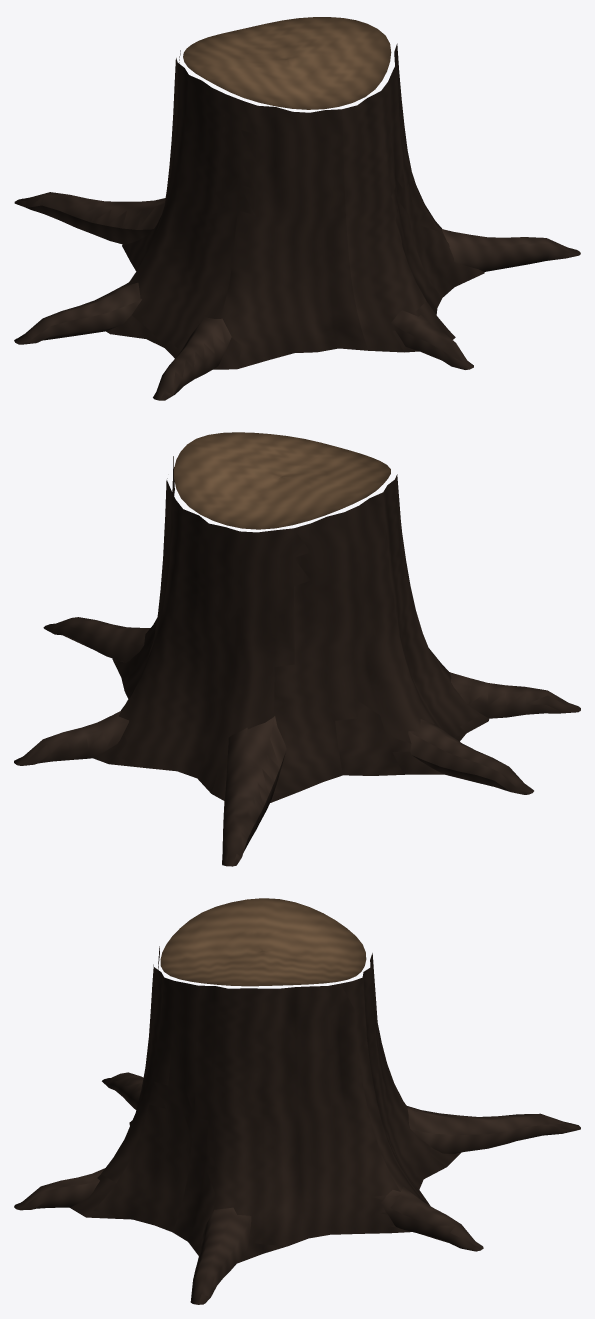
3 renders of one model, top to bottom at view 1: azimuth 30°, elevation 25°; view 2: azimuth 150°, elevation 25°; view 3: azimuth 270°, elevation 25°, orthographic. The views are drawn at different scales.
Parts seen in each view (by area): view 1: heartwood, cut grain; view 2: heartwood, cut grain; view 3: heartwood, cut grain.
Boxes of the visible parts, x1,y1,x2,y2 form: heartwood: (14, 43, 580, 400); cut grain: (183, 17, 391, 109); heartwood: (14, 456, 580, 866); cut grain: (174, 432, 390, 529); heartwood: (14, 946, 580, 1304); cut grain: (160, 898, 366, 986).
Size of the model in its own units: 1.22 by 0.54 by 1.17.
Materials: 2 (2 with a texture image).
